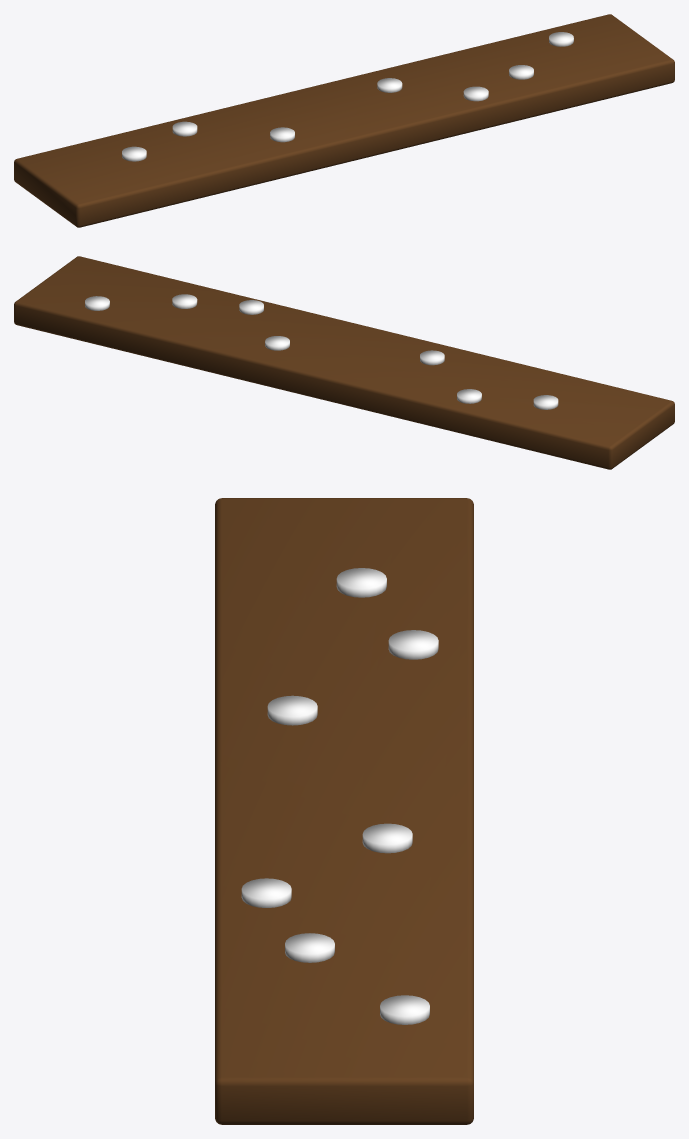
The model's file is termite-damaged-plank.obj.
3 renders of one model, top to bottom at view 1: azimuth 30°, elevation 25°; view 2: azimuth 150°, elevation 25°; view 3: azimuth 270°, elevation 25°, orthographic. The views are drawn at different scales.
Parts seen in each view (by area): view 1: termite-damaged-plank; view 2: termite-damaged-plank; view 3: termite-damaged-plank.
Boxes of the visible parts, left/top/right/bottom form: termite-damaged-plank: left=14, top=14, right=674, bottom=227; termite-damaged-plank: left=14, top=256, right=674, bottom=469; termite-damaged-plank: left=215, top=498, right=473, bottom=1124.
Bounding box in the file's own units: 1.6 × 0.071 × 0.3.
